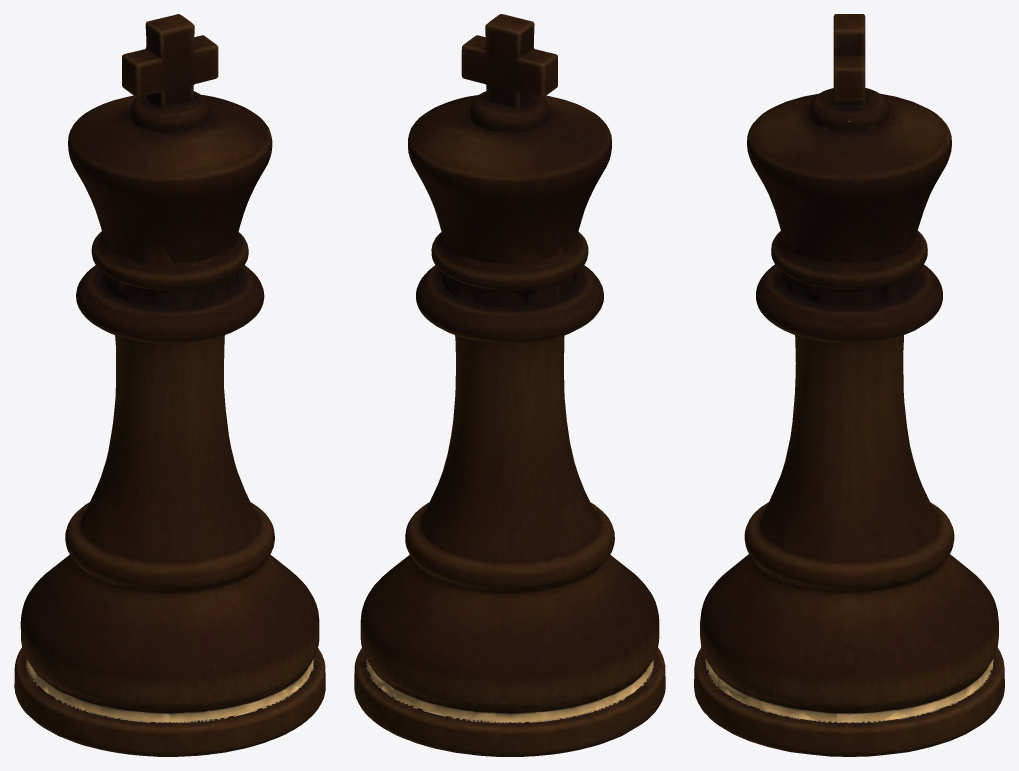
File: king_dark.glb
3 renders of one model, left to right at view 1: azimuth 30°, elevation 25°; view 2: azimuth 150°, elevation 25°; view 3: azimuth 270°, elevation 25°, orthographic.
Parts seen in each view (by area): view 1: geometry_0; view 2: geometry_0; view 3: geometry_0.
Boxes of the visible parts, left/top/right/bottom form: geometry_0: left=14, top=14, right=325, bottom=756; geometry_0: left=354, top=14, right=665, bottom=756; geometry_0: left=694, top=14, right=1004, bottom=756.
Bounding box in the file's own units: 0.628 × 1.5 × 0.6278.
Materials: 1 (1 with a texture image).
